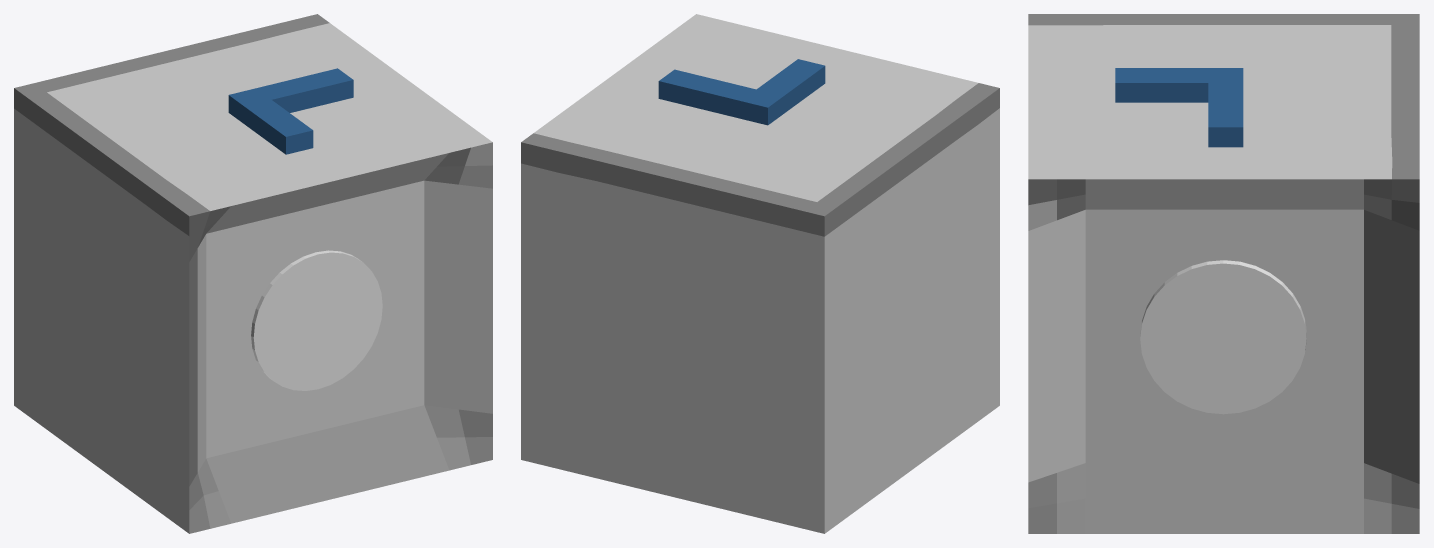
The model's file is mirror_coloured_glass.fbx.
3 renders of one model, left to right at view 1: azimuth 30°, elevation 25°; view 2: azimuth 150°, elevation 25°; view 3: azimuth 270°, elevation 25°, orthographic. The views are drawn at different scales.
Visible parts, largest first — view 1: Cube, Cylinder.001, Base, Arrow; view 2: Cube, Arrow, Base; view 3: Cube, Cylinder.001, Base, Arrow.
Boxes of the visible parts, bbox=[...] form: Cube: bbox=[14, 14, 492, 533]; Cylinder.001: bbox=[251, 250, 382, 390]; Base: bbox=[228, 88, 313, 154]; Arrow: bbox=[229, 68, 353, 112]; Cube: bbox=[521, 14, 999, 533]; Arrow: bbox=[658, 69, 783, 118]; Base: bbox=[740, 59, 825, 125]; Cube: bbox=[1028, 14, 1419, 533]; Cylinder.001: bbox=[1140, 260, 1306, 414]; Base: bbox=[1115, 68, 1243, 102]; Arrow: bbox=[1208, 68, 1243, 147].
Bounding box in the file's own units: 400 × 422 × 400.
